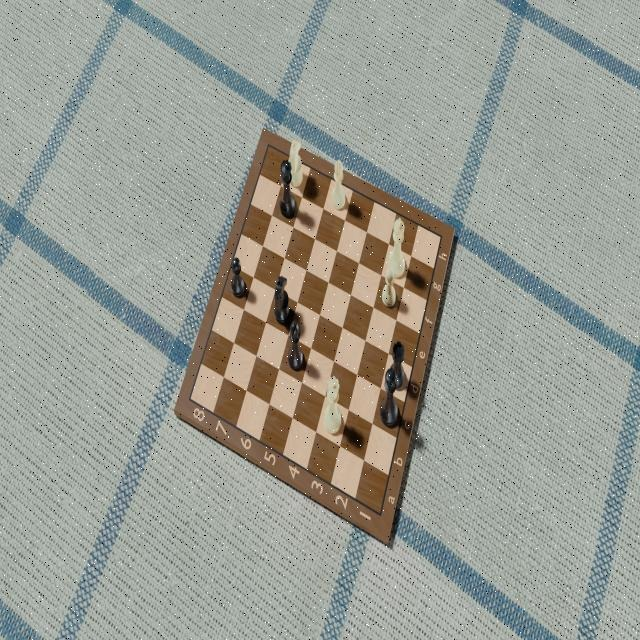black-bishop: (286, 319, 306, 373)
black-king: (378, 366, 400, 430)
black-knight: (273, 273, 291, 326)
black-pawn: (229, 257, 246, 299)
black-queen: (279, 158, 297, 218)
black-rook: (388, 338, 408, 390)
white-bishop: (328, 156, 347, 211)
white-king: (385, 216, 407, 280)
white-knight: (288, 141, 304, 191)
white-queen: (322, 376, 342, 437)
